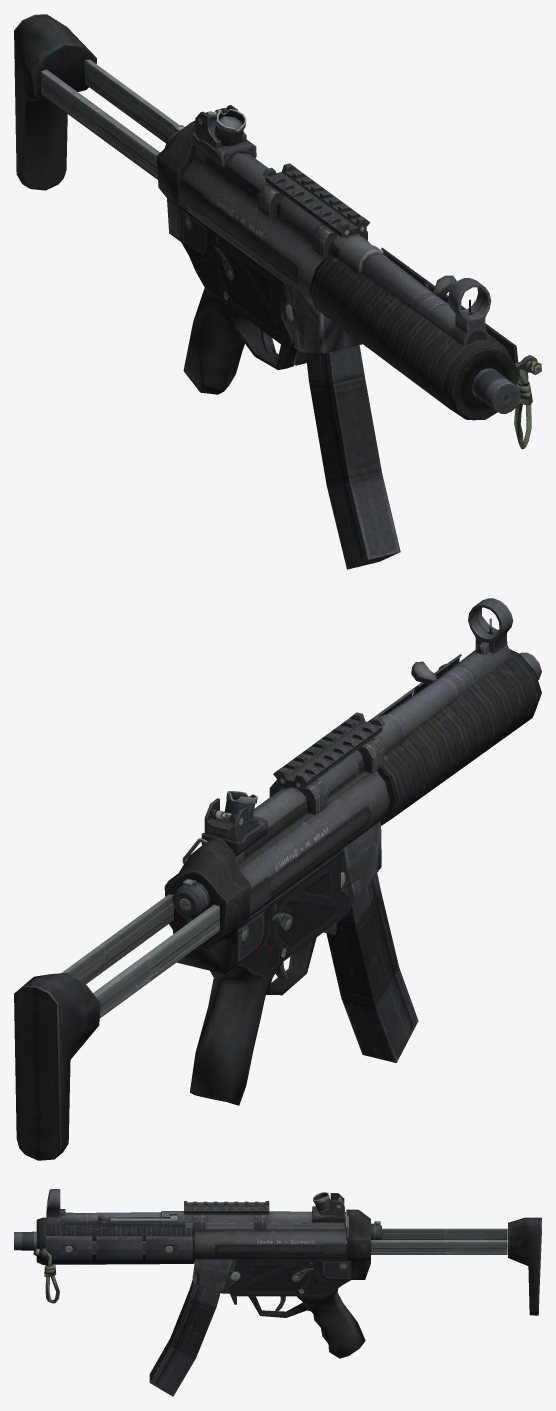
Rendered from SMG_MP5_SD_Body_LOD_(000115).glb.
The picture shows the model from 3 angles, top to bottom: view 1: azimuth 30°, elevation 25°; view 2: azimuth 150°, elevation 25°; view 3: azimuth 270°, elevation 25°; orthographic projection. The views are drawn at different scales.
Visible parts, largest first — view 1: pw_1052_MP5SD_qtb_LOD0; view 2: pw_1052_MP5SD_qtb_LOD0; view 3: pw_1052_MP5SD_qtb_LOD0.
Part boxes in pixels (box(x1,y1,x2,y2)): pw_1052_MP5SD_qtb_LOD0: box(14, 14, 541, 569); pw_1052_MP5SD_qtb_LOD0: box(14, 598, 541, 1160); pw_1052_MP5SD_qtb_LOD0: box(14, 1189, 541, 1396).
Bounding box in the file's own units: 0.0918 × 0.3331 × 0.7876.
Materials: 1 (1 with a texture image).
